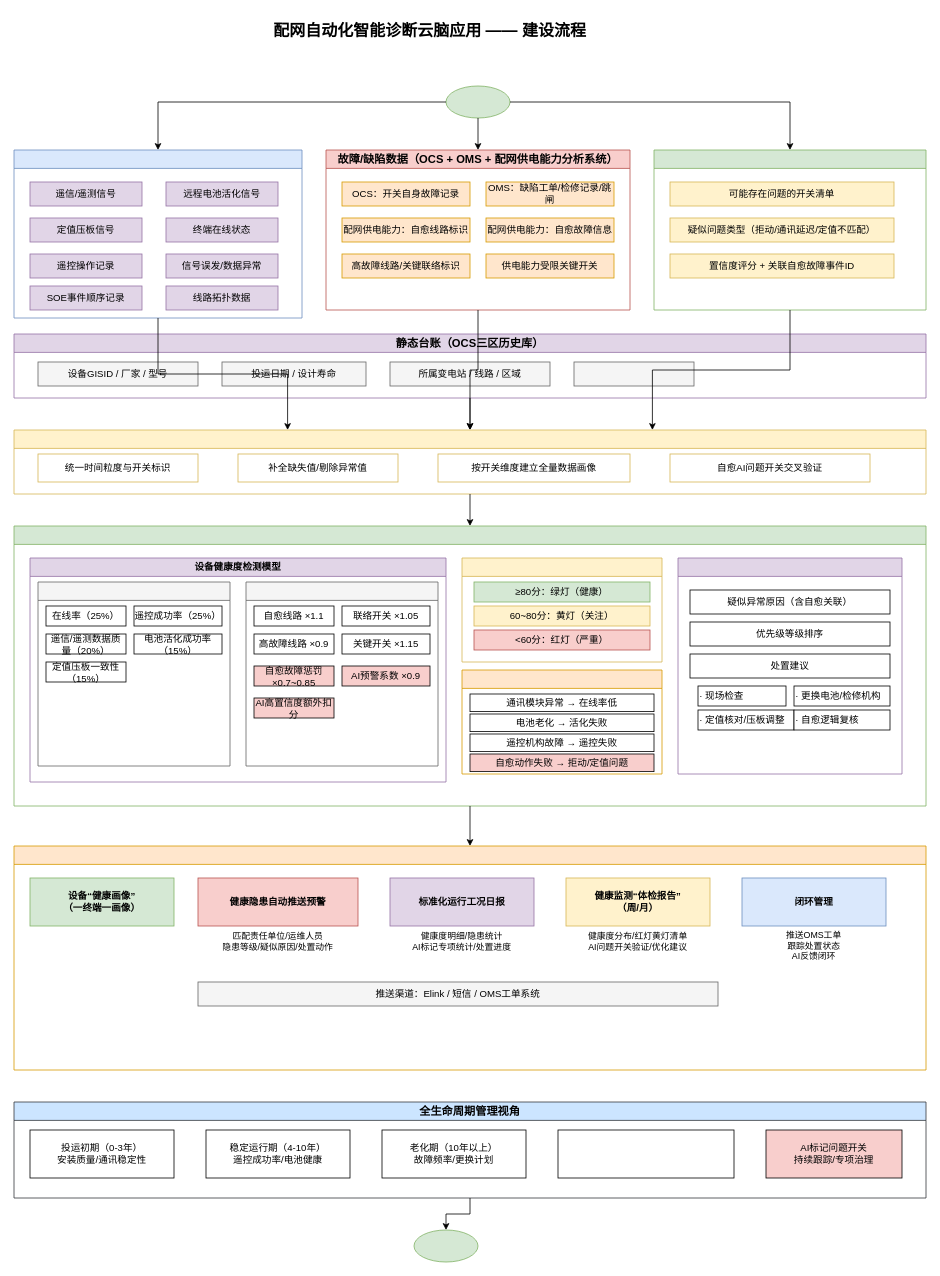
Image size: 940x1276. Some labels were removed from this diagram. Here are the shapes that lost their labels. From the top down, the box of each, then its label:
(445, 85, 510, 118): 开始
(13, 149, 302, 318): 运行数据（OCS调度自动化系统）
(653, 149, 926, 310): 智能体前置分析（配网自愈AI智能分析智能体）
(573, 361, 694, 386): 责任单位
(13, 429, 926, 494): 数据融合与清洗
(461, 557, 662, 662): 健康等级划分
(37, 581, 230, 766): 基础指标（权重分配）
(245, 581, 438, 766): 修正系数
(13, 525, 926, 806): 智能体处理层（大模型驱动）
(677, 557, 902, 774): 根源分析与处置建议生成
(461, 669, 662, 774): 异常精准定位（部件级+自愈关联）
(13, 845, 926, 1070): 输出与服务层
(557, 1129, 734, 1178): 自愈/关键位置开关 提高健康度要求/缩短巡检周期
(413, 1229, 478, 1262): 结束
